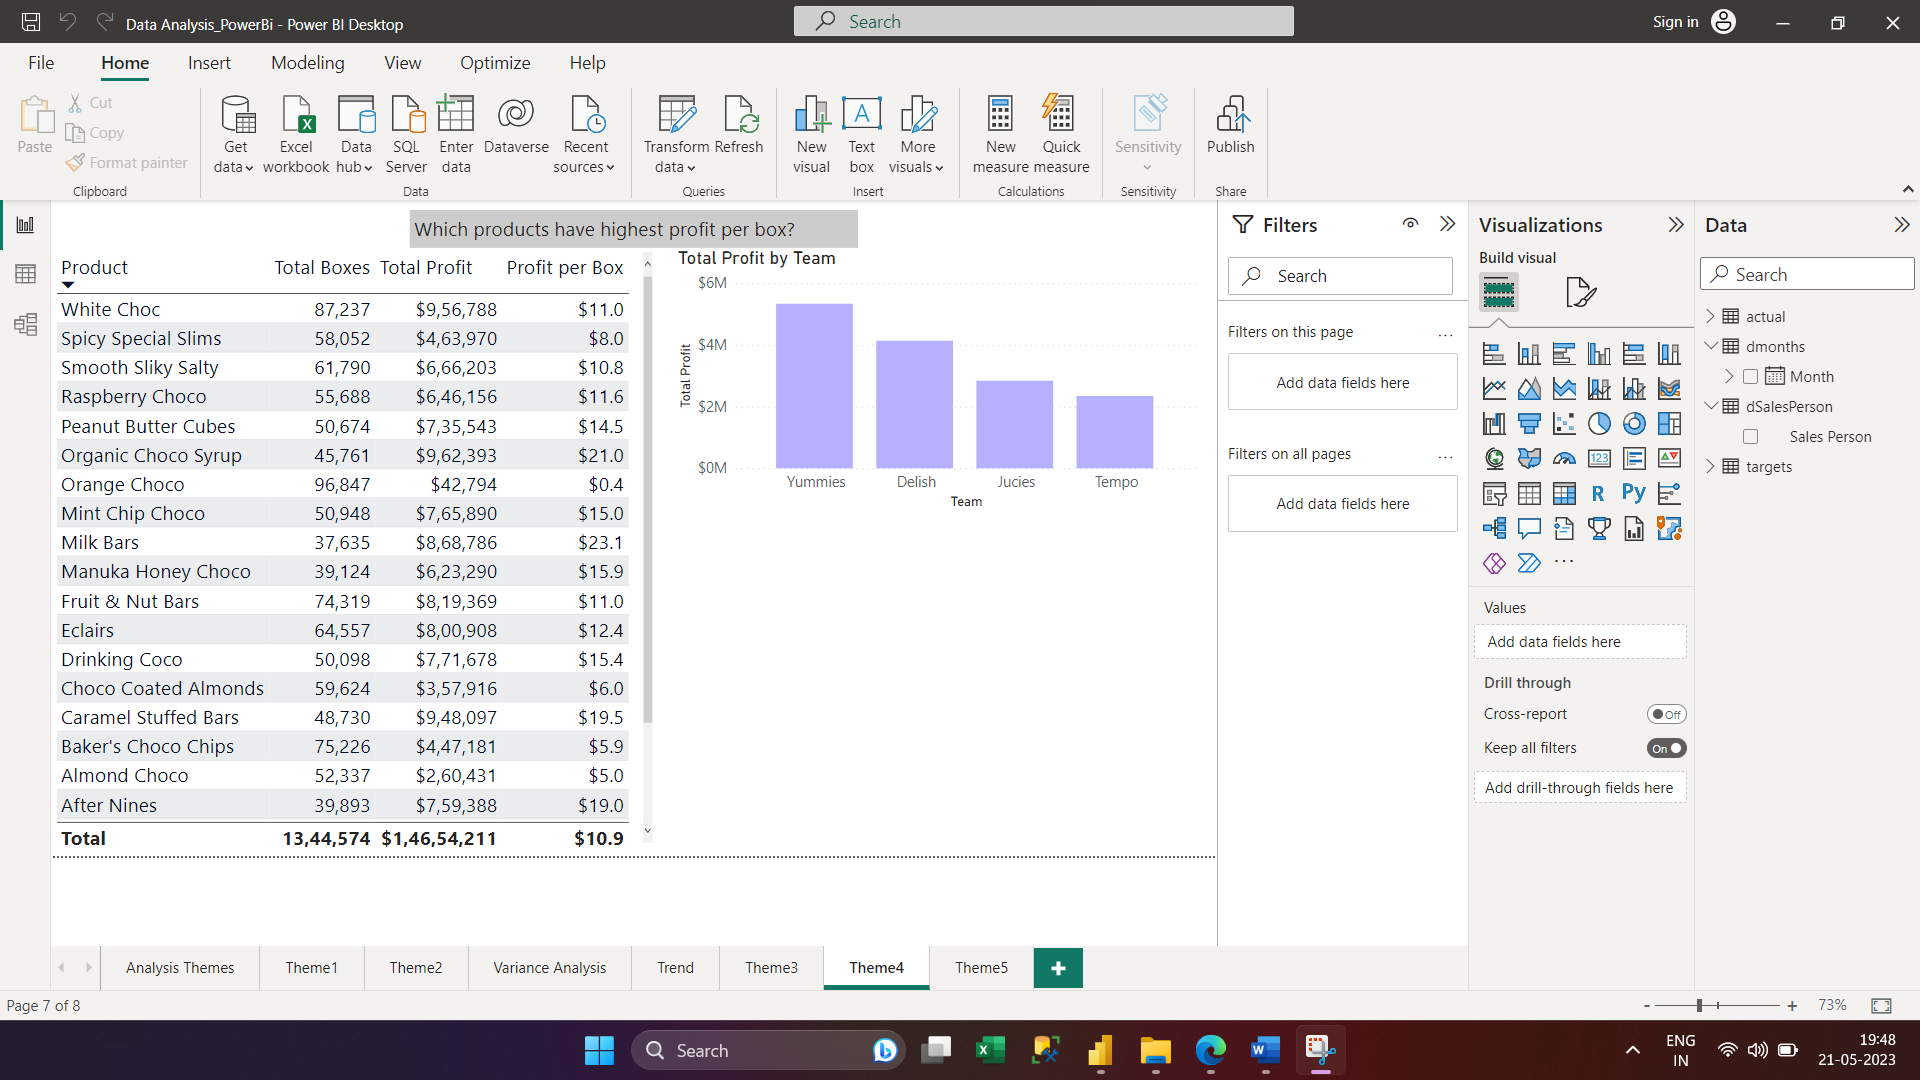

The page's visual inventory and layout, read from the dashboard file:
{"tool":"powerbi","page":{"name":"Theme4","canvas":[1280,720],"ordinal":6},"visuals":[{"type":"tableEx","fields":{"Values":["actual.Product","actual.Total Boxes","actual.Total Profit","actual.Profit per Box"]},"box":[0,52.2,664.7,667.5],"z":0},{"type":"clusteredColumnChart","fields":{"Category":["actual.Team"],"Y":["actual.Total Profit"]},"box":[683.9,52.2,579.6,292.5],"z":1000},{"type":"textbox","box":[394.2,11,491.7,41.2],"z":2000}]}

Visuals, with their boxes on the page's 1280x720 design canvas (x1, y1, x2, y2). These are canvas units, not pixel positions in the 1920x1080 screenshot, which may show the page scaled, cropped or inside an application window:
tableEx - actual.Product x actual.Total Boxes: [0,52,665,720]
clusteredColumnChart - actual.Team x actual.Total Profit: [684,52,1264,345]
textbox: [394,11,886,52]
